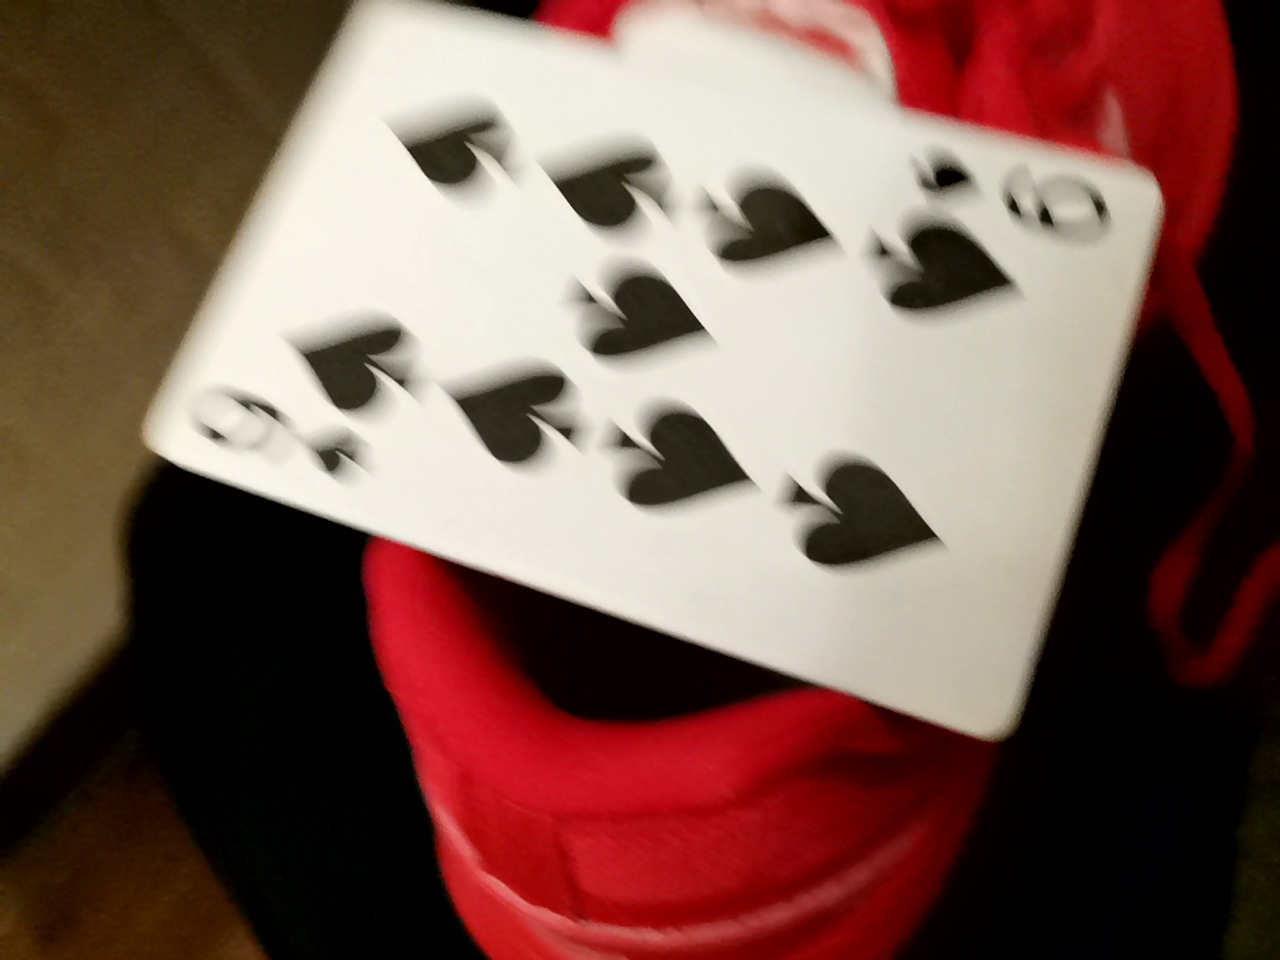ht 9: (215, 164, 1166, 869)
